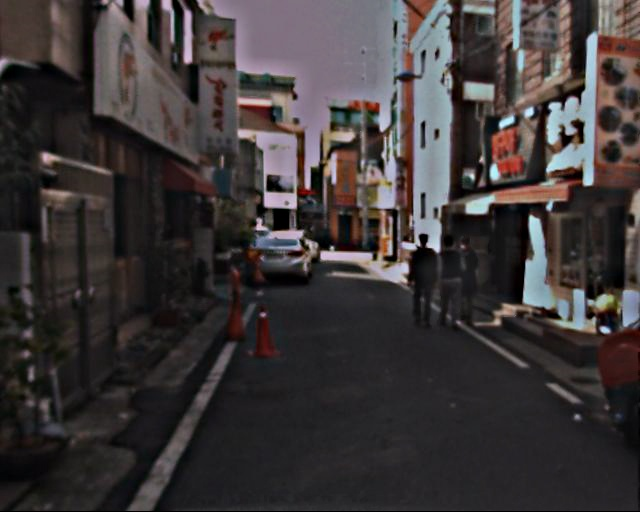person: (435, 235, 476, 334), (407, 234, 446, 329), (451, 236, 489, 329)
